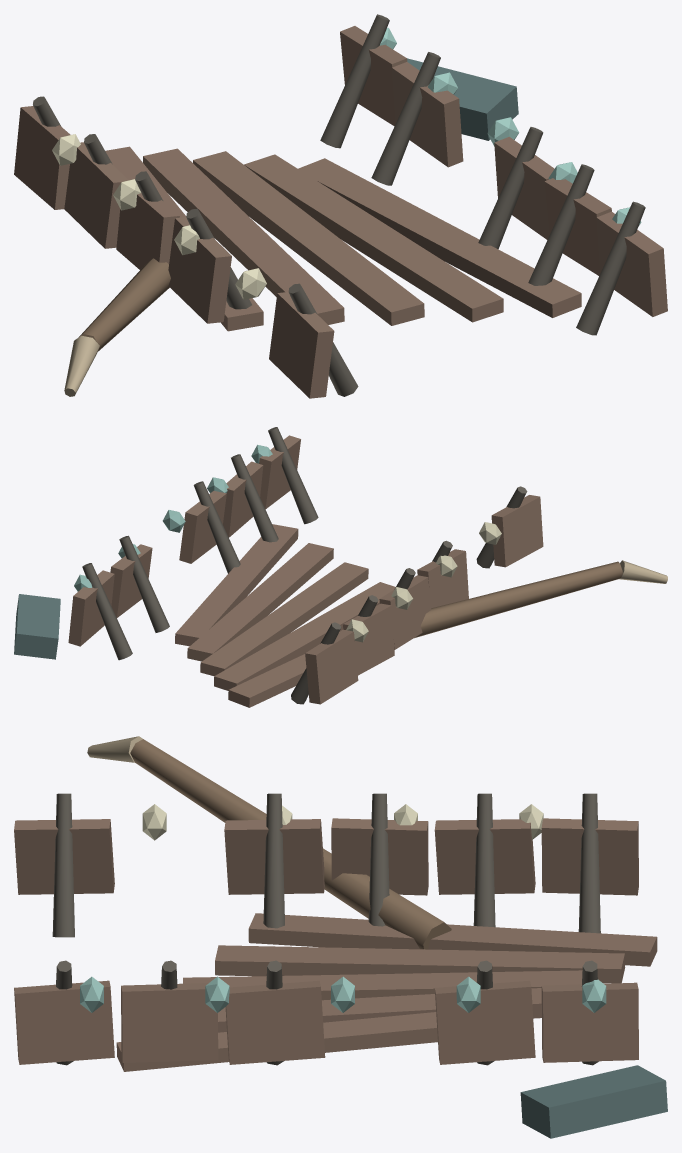
The model's file is ocean-scenery-28.glb.
3 views of the same model, one above another, from view 1: azimuth 30°, elevation 25°; view 2: azimuth 150°, elevation 25°; view 3: azimuth 270°, elevation 25° (orthographic). The views are drawn at different scales.
Parts seen in each view (by area): view 1: Sunken sailboat garden; view 2: Sunken sailboat garden; view 3: Sunken sailboat garden.
Part boxes in pixels (left/top/right/bottom): Sunken sailboat garden: left=14, top=14, right=667, bottom=398; Sunken sailboat garden: left=14, top=427, right=667, bottom=707; Sunken sailboat garden: left=14, top=736, right=667, bottom=1138.
Size of the model in its own units: 5.11 by 0.8982 by 4.17.
